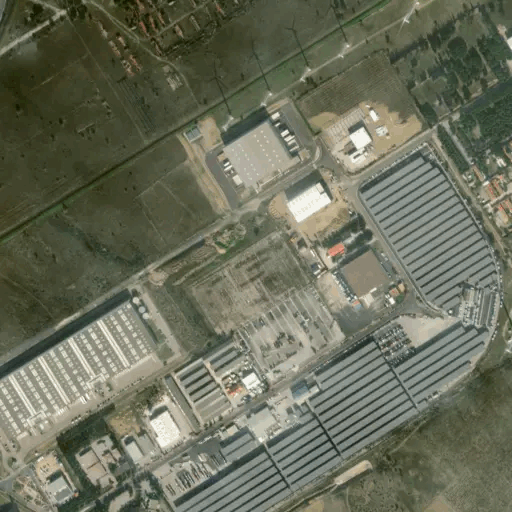wt: (192, 54, 248, 137), (278, 20, 323, 97), (243, 33, 283, 115), (322, 2, 357, 72), (396, 5, 430, 49)
